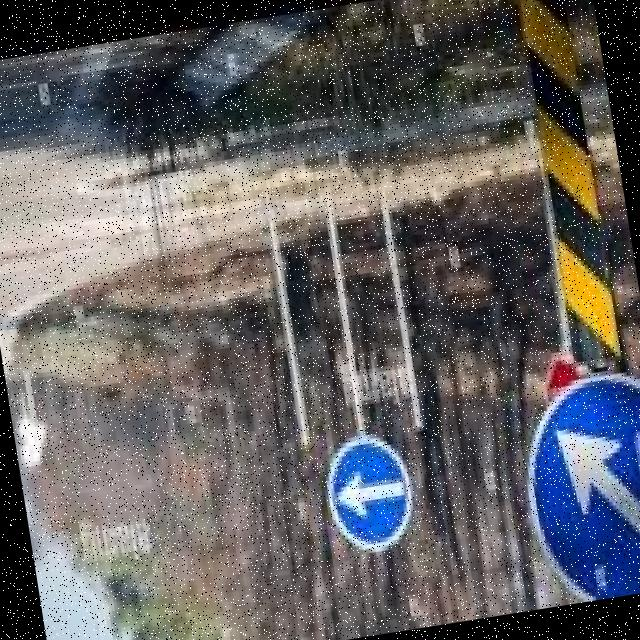compulsory_keep_right: (509, 363, 640, 608), (308, 415, 421, 566)
